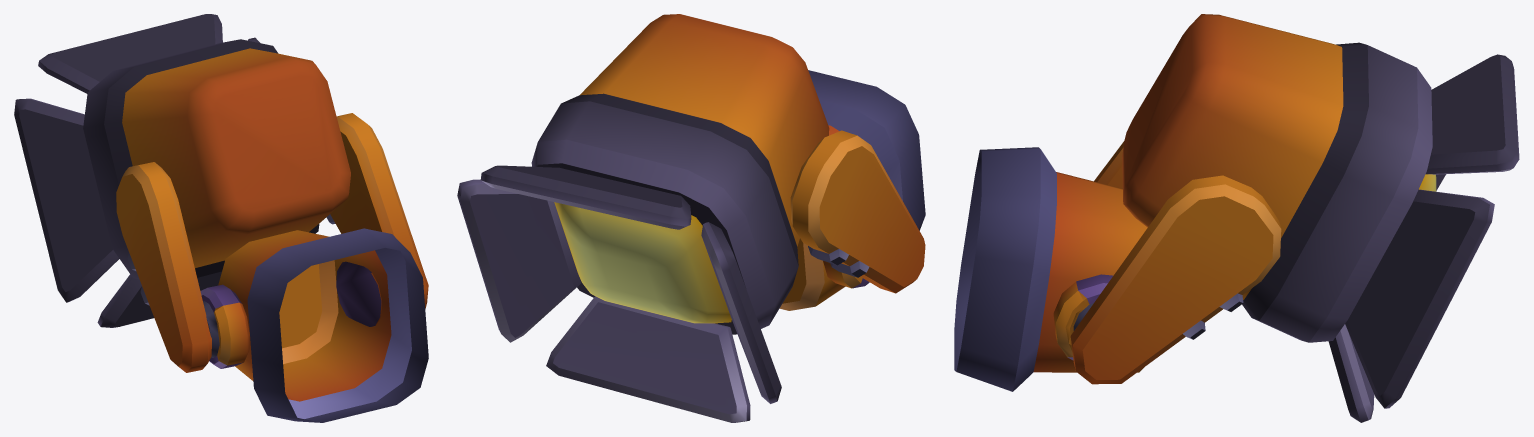
Rendered from SM_Spotlight_01.fbx.
The picture shows the model from 3 angles, left to right: view 1: azimuth 30°, elevation 25°; view 2: azimuth 150°, elevation 25°; view 3: azimuth 270°, elevation 25°; orthographic projection. The views are drawn at different scales.
Parts seen in each view (by area): view 1: SM_Spotlight_01; view 2: SM_Spotlight_01; view 3: SM_Spotlight_01.
Part boxes in pixels (<box>): SM_Spotlight_01: <box>14,14,428,422</box>; SM_Spotlight_01: <box>457,14,925,422</box>; SM_Spotlight_01: <box>954,14,1519,422</box>.
Size of the model in its own units: 3.11 by 3.42 by 5.15.
